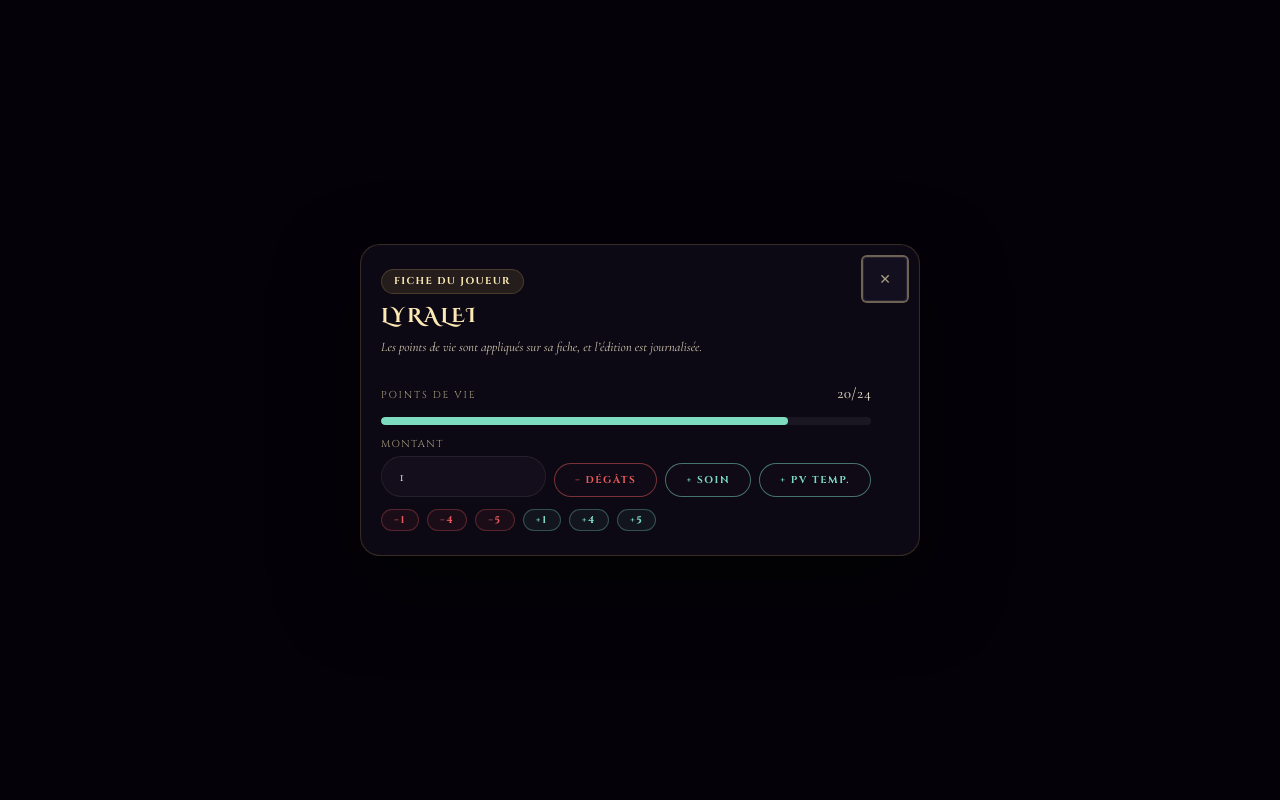
<PlayerControlModal> › une écriture refusée affiche une erreur au lieu d’un silence
The image size is (1280, 800).
Replace the text in the number field labelled "Montant" with "3". click: (464, 476)
box: [381,456,546,497]
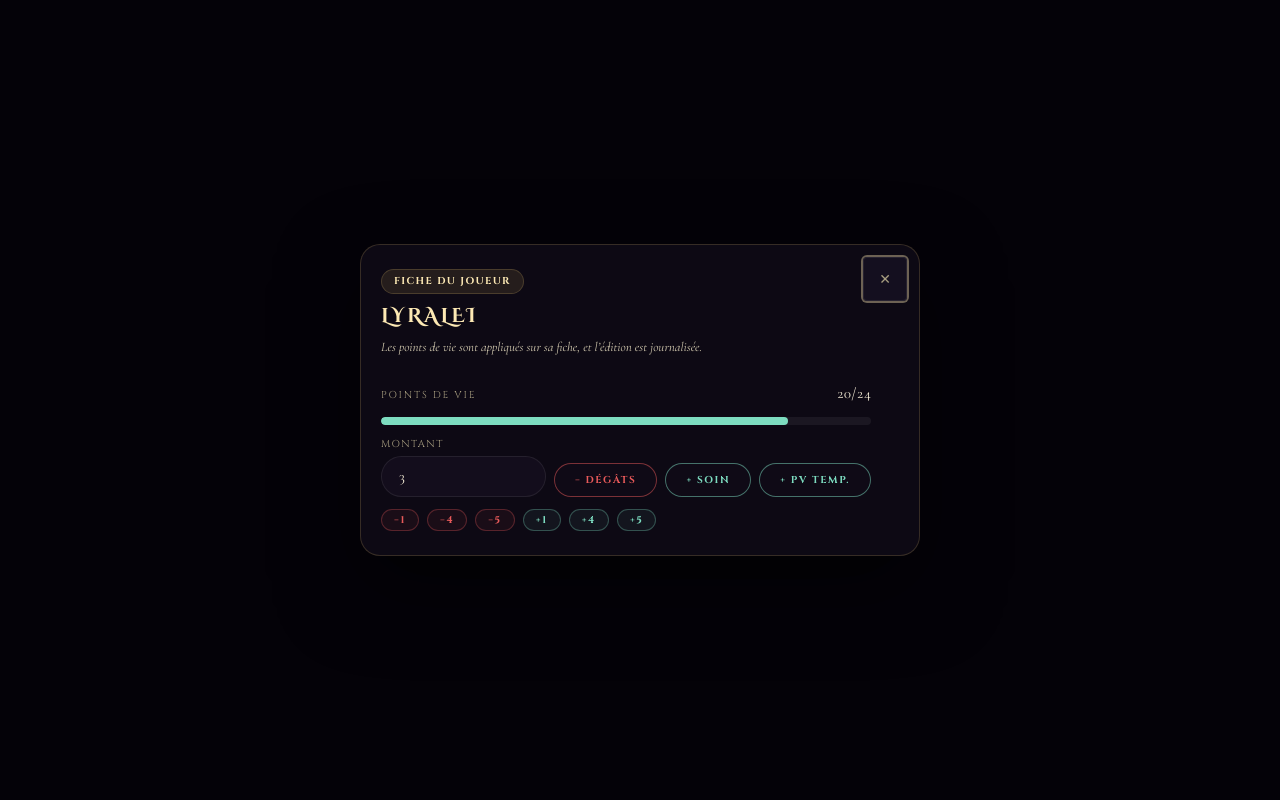
Click the button "− Dégâts". click: (606, 480)
box: [554,463,657,497]
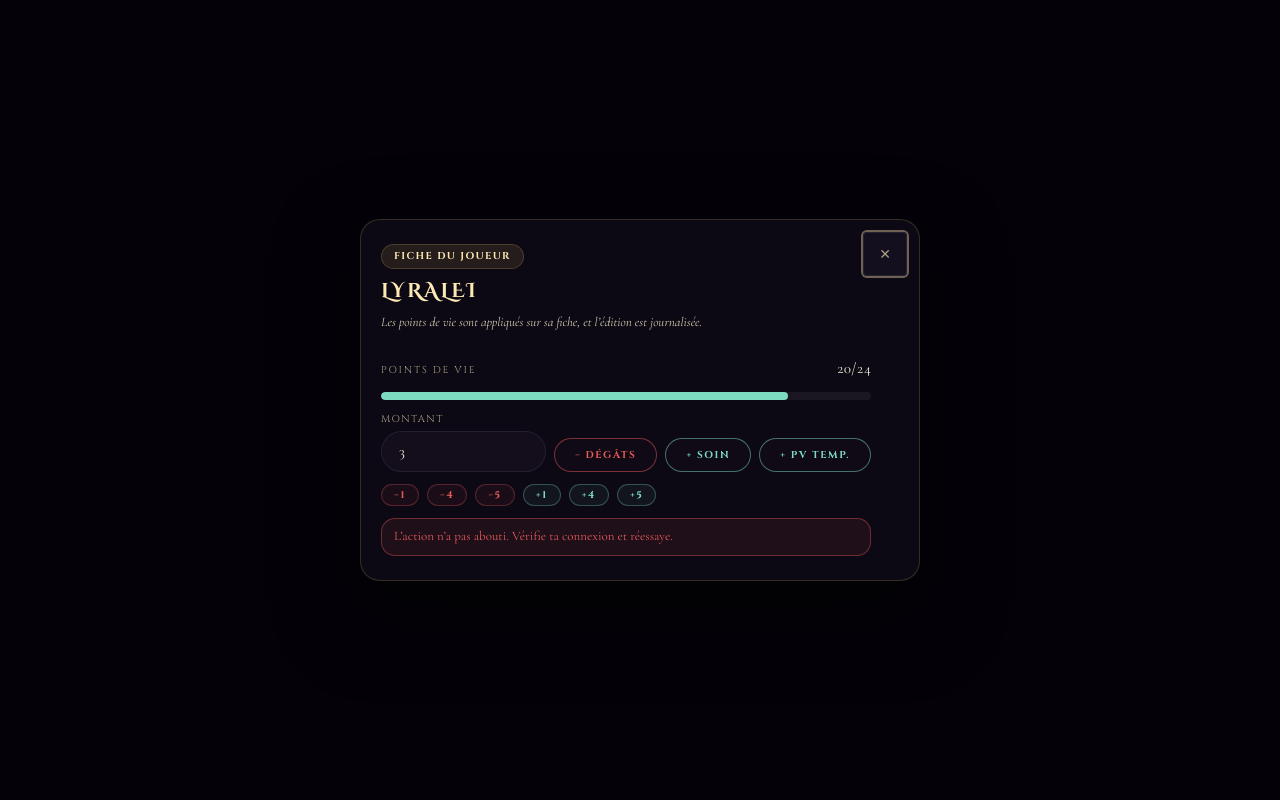
Expected: the message "L’action n’a pas abouti. Vérifie ta connexion et réessaye." is shown, [381,518,871,556]
